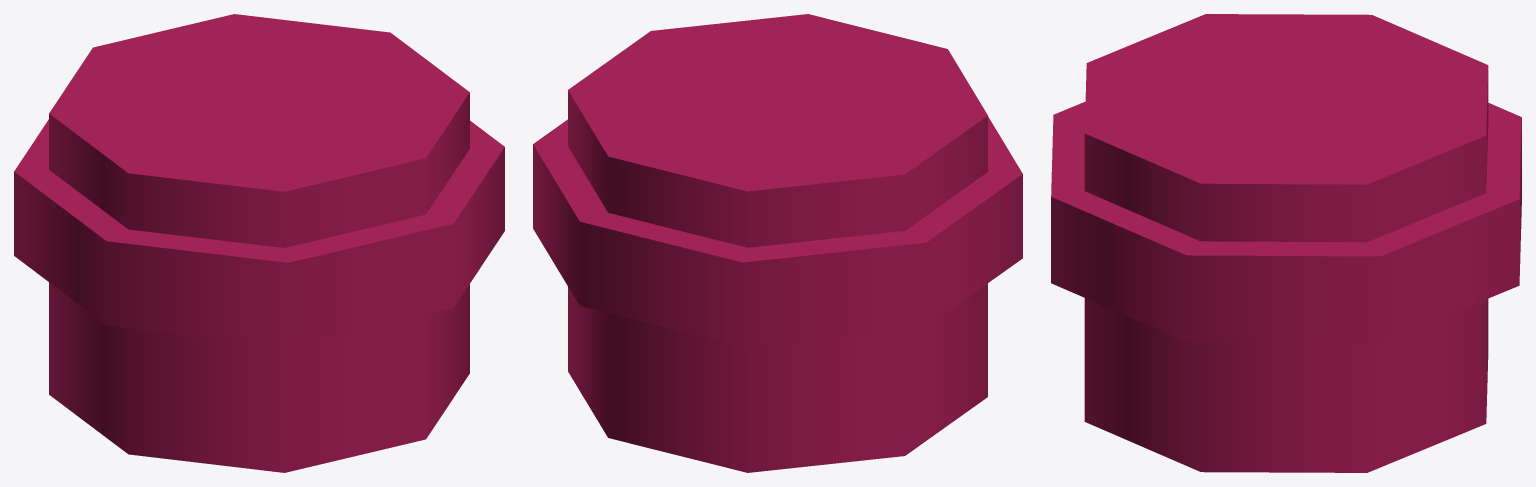
File: Part_1X1_end.FBX
3 renders of one model, left to right at view 1: azimuth 30°, elevation 25°; view 2: azimuth 150°, elevation 25°; view 3: azimuth 270°, elevation 25°, orthographic. The views are drawn at different scales.
Visible parts, largest first — view 1: Part_1X1_end; view 2: Part_1X1_end; view 3: Part_1X1_end.
Boxes of the visible parts, x1,y1,x2,y2 form: Part_1X1_end: (14, 14, 504, 472); Part_1X1_end: (533, 14, 1022, 472); Part_1X1_end: (1051, 14, 1521, 472).
Bounding box in the file's own units: 73.97 × 50 × 73.97.
